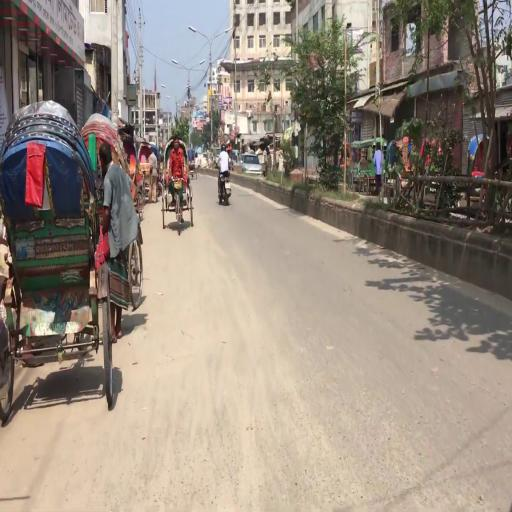car: (242, 153, 263, 176)
motorbike: (215, 145, 234, 206)
rickshaw: (4, 102, 114, 411), (163, 134, 196, 237), (126, 142, 147, 220), (140, 145, 154, 203), (189, 148, 198, 180)
